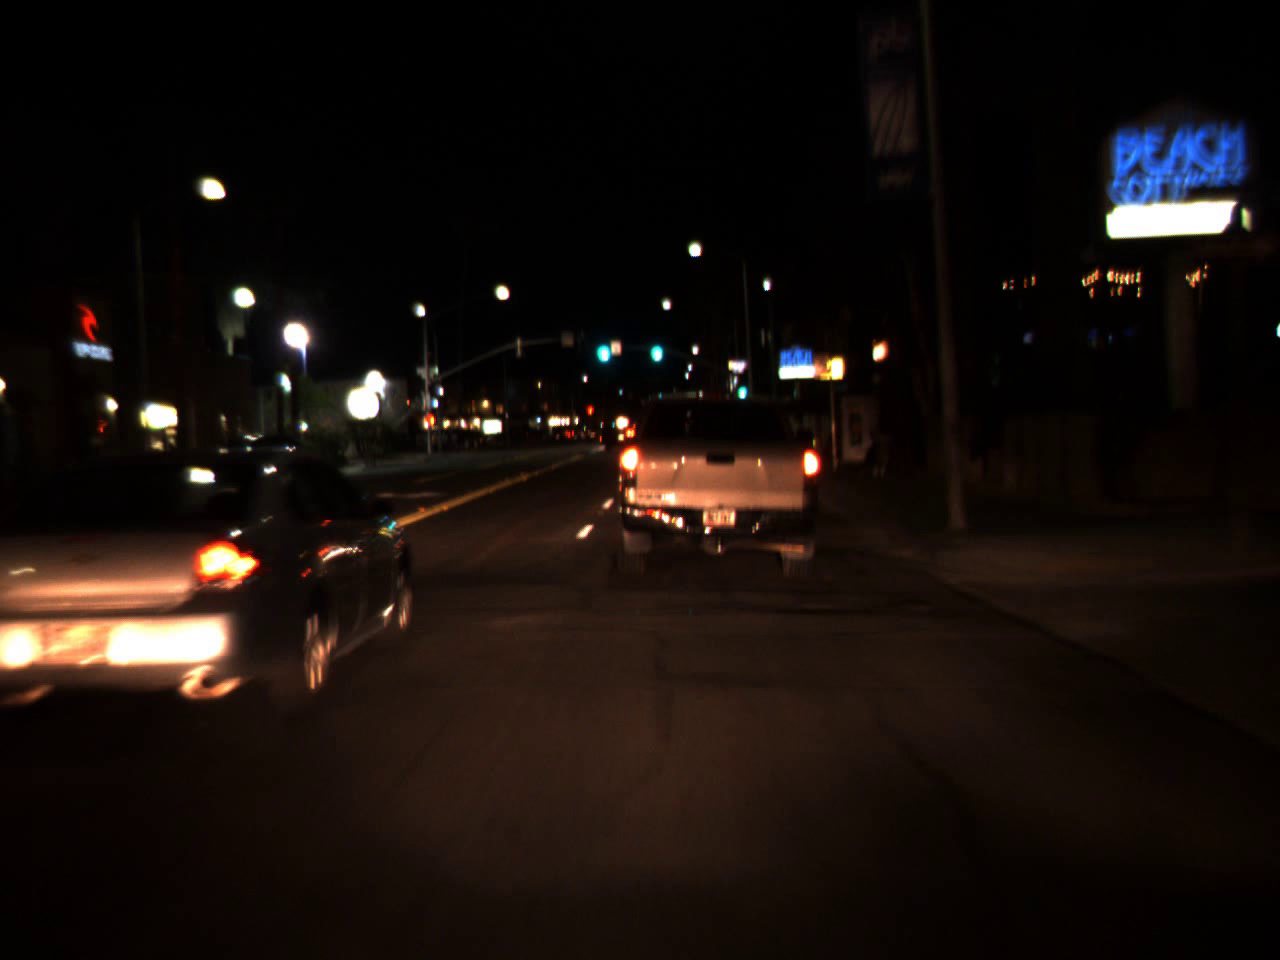go: (592, 323, 613, 368), (647, 326, 665, 368), (736, 374, 743, 401)
